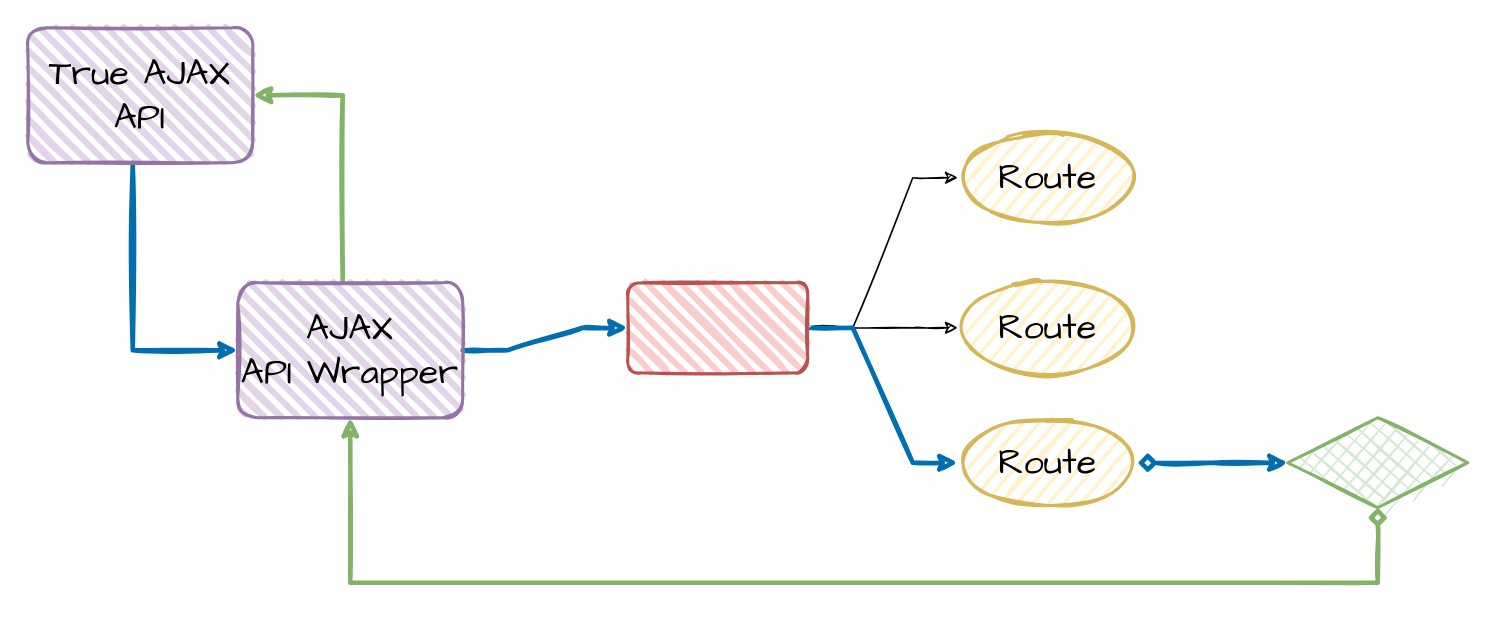
Image size: 1494x624. Some labels were removed from this diagram. The shapes that lost their labels are listed below. From the top down, each one's centre as x and y in pixels, then its label:
At (x=717, y=327): "RouteMap".
At (x=1377, y=462): "Main Callback".
